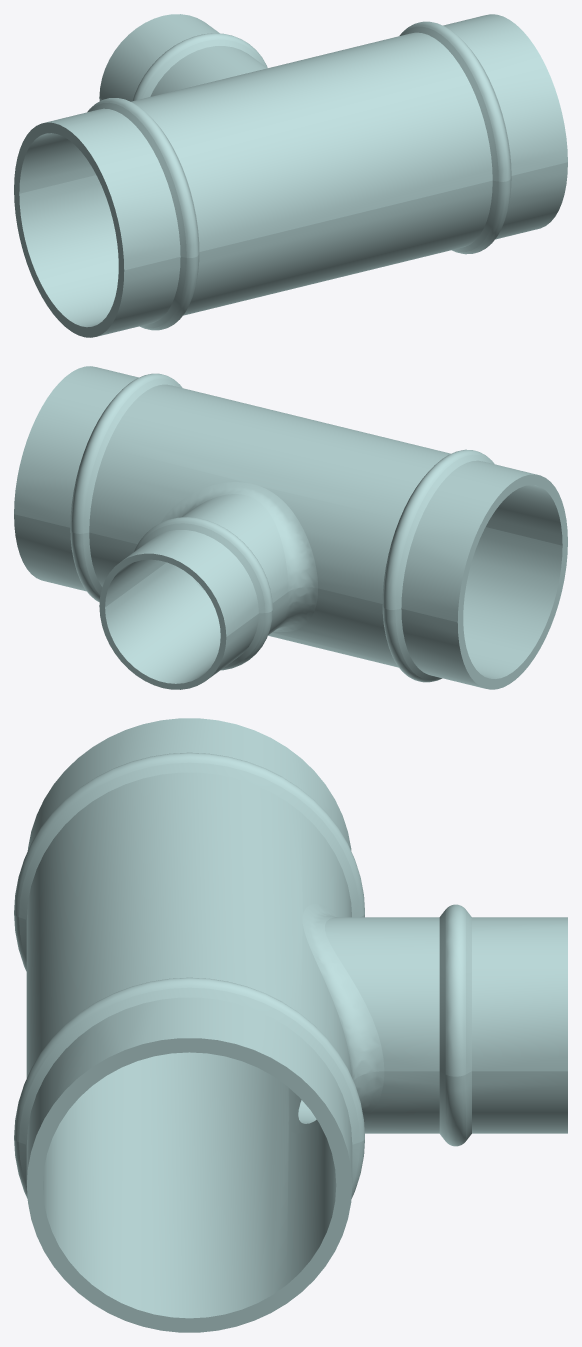
3 views of the same model, one above another, from view 1: azimuth 30°, elevation 25°; view 2: azimuth 150°, elevation 25°; view 3: azimuth 270°, elevation 25° (orthographic). The views are drawn at different scales.
Bounding box in the file's own units: 236 × 110 × 173.
